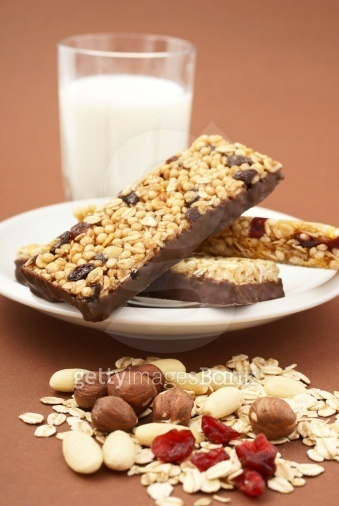glass of milk: (54, 29, 190, 192)
